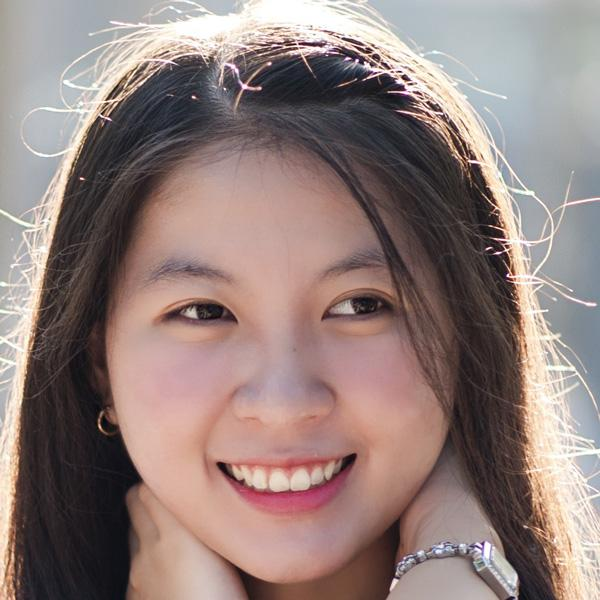Eyes: (313, 279, 403, 336), (152, 289, 244, 341)
